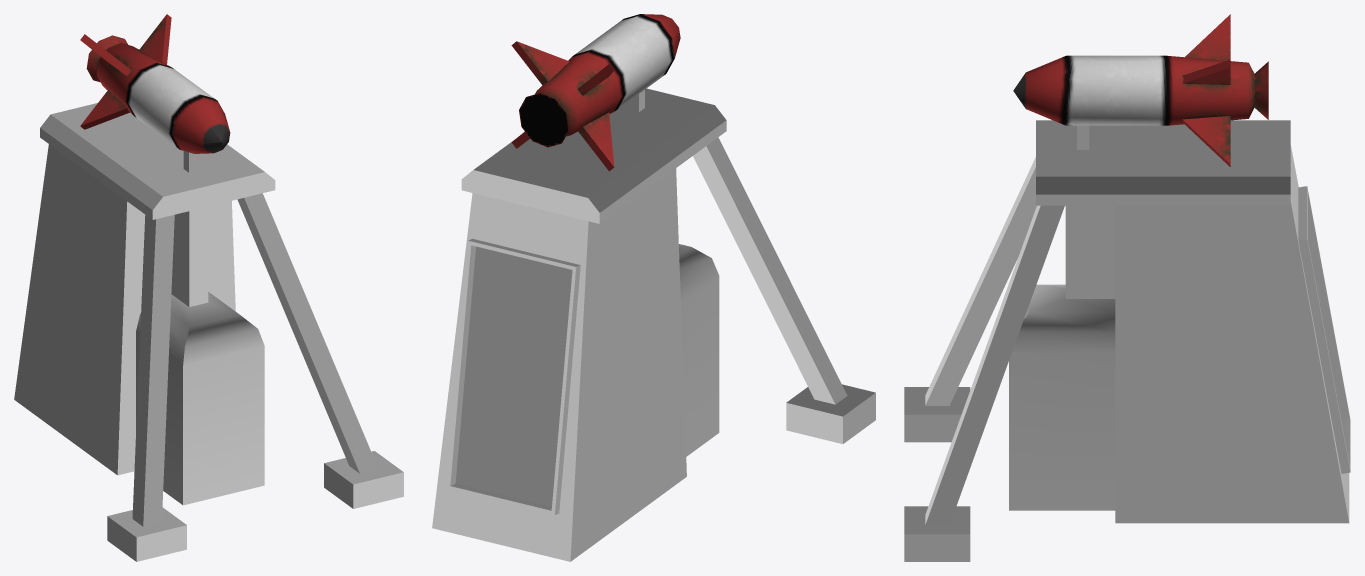
File: MissileTower.fbx
3 views of the same model, side by side, from view 1: azimuth 30°, elevation 25°; view 2: azimuth 150°, elevation 25°; view 3: azimuth 270°, elevation 25° (orthographic). The views are drawn at different scales.
Parts seen in each view (by area): view 1: MissileTower; view 2: MissileTower; view 3: MissileTower.
Part boxes in pixels (x1,y1,x2,y2): MissileTower: [14, 14, 403, 561]; MissileTower: [432, 14, 875, 561]; MissileTower: [904, 14, 1350, 561].
Bounding box in the file's own units: 70.4 × 101 × 90.04.
